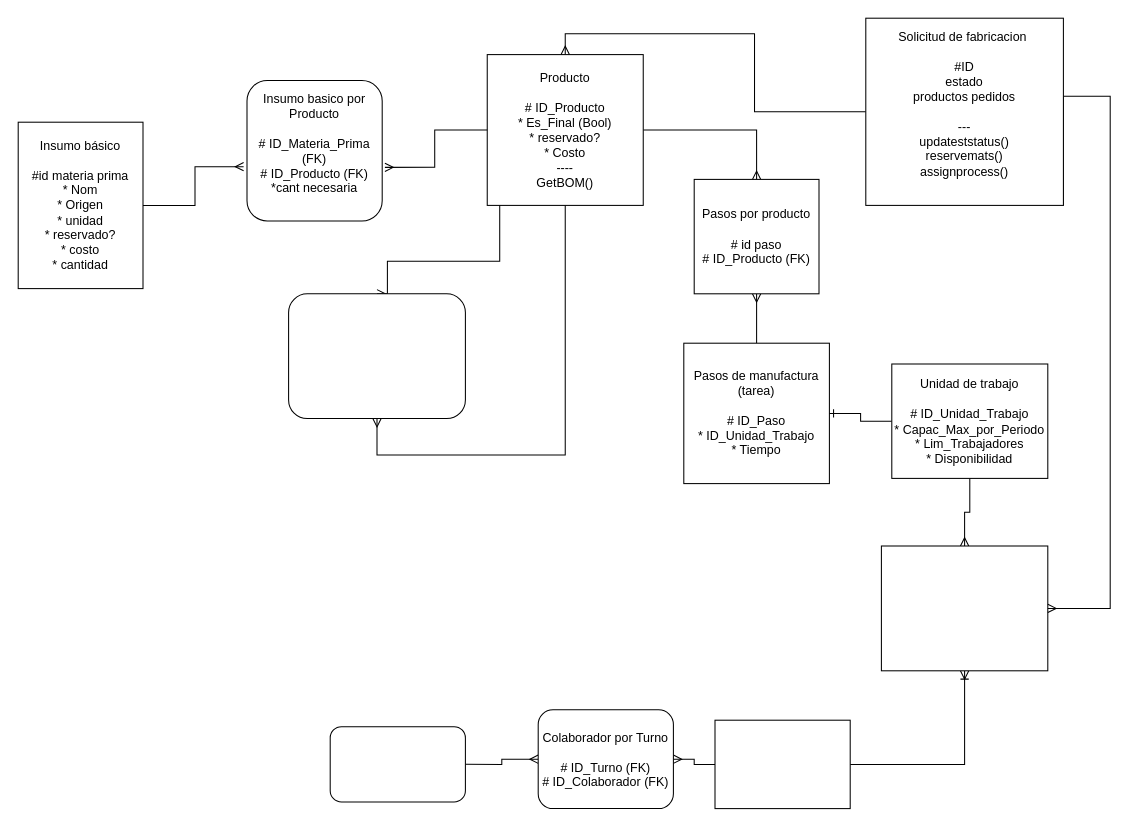
This 1137x827 diagram has some shape labels left out. The shapes that lost their labels are listed below. From the top down, each one's box as (x1, y1, x2, y2) in pixels, then its label:
(288, 293, 465, 419): Sub-Ensamble x Producto # ID _Producto_Insumo (FK) # ID_Producto (FK)
(880, 545, 1048, 671): Colaborador por Unidad de trabajo # ID_Colaborador (FK) # ID_Unidad_Trabajo (FK)
(329, 726, 465, 802): Turno # ID_Turno * Descripción
(714, 719, 850, 809): Colaborador # ID_Colaborador * Disponibilidad
